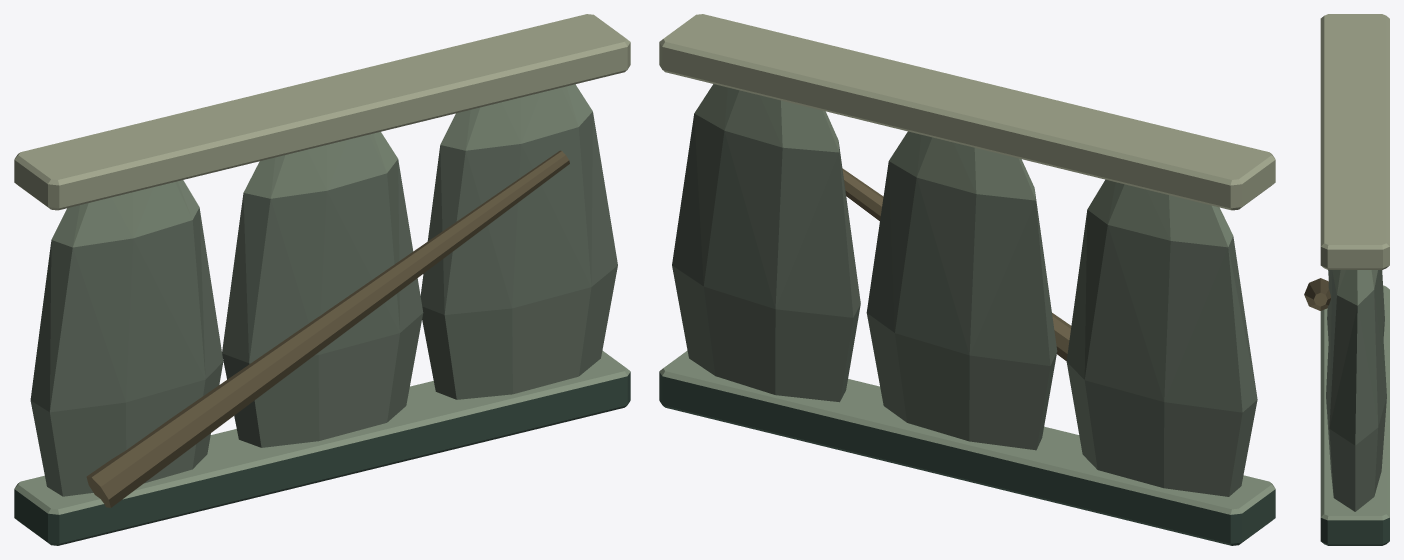
Rendered from platform-edge.glb.
The picture shows the model from 3 angles, left to right: view 1: azimuth 30°, elevation 25°; view 2: azimuth 150°, elevation 25°; view 3: azimuth 270°, elevation 25°; orthographic projection. The views are drawn at different scales.
Parts seen in each view (by area): view 1: platform-edge__body; view 2: platform-edge__body; view 3: platform-edge__body.
Boxes of the visible parts, box(x1,y1,x2,y2) form: platform-edge__body: box(14, 14, 630, 545); platform-edge__body: box(659, 14, 1275, 545); platform-edge__body: box(1304, 14, 1389, 545).
Size of the model in its own units: 2.01 by 1.2 by 0.31.
